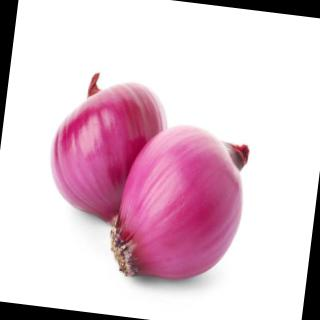Bawang Merah: (103, 115, 257, 294)
